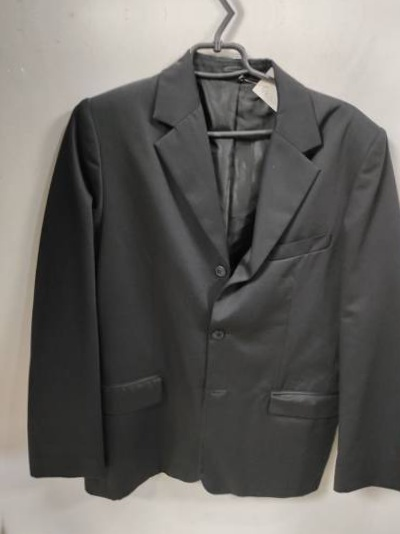Blazer: (46, 60, 400, 508)
